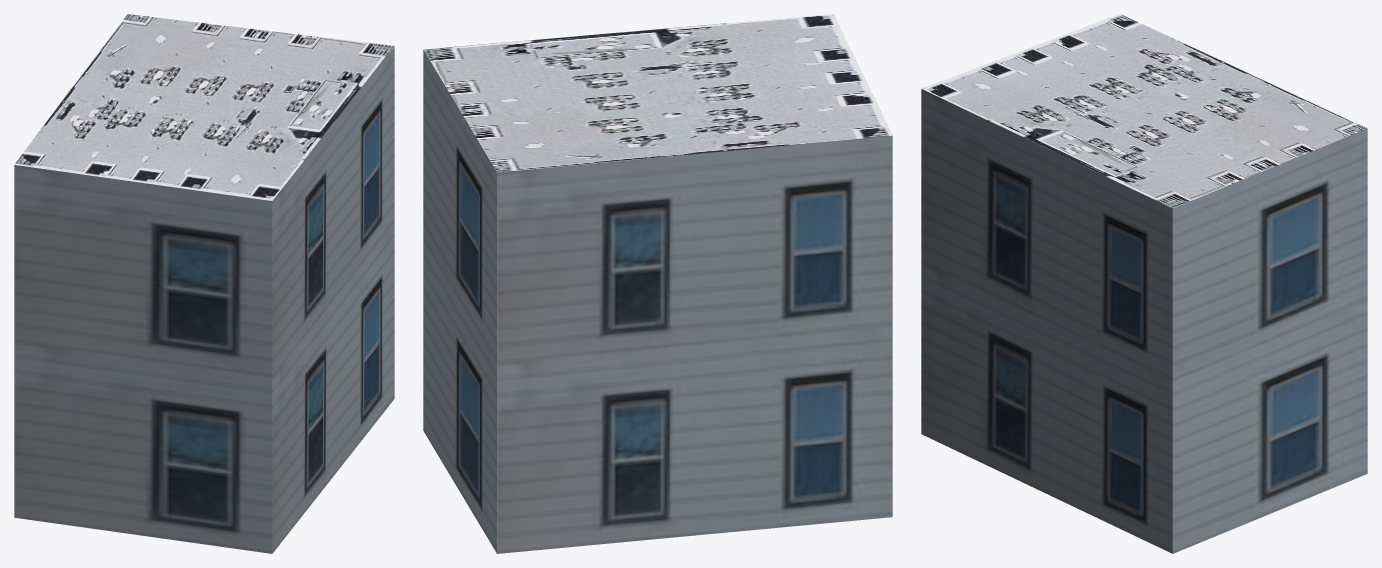
The model's file is ResTex__88.fbx.
3 renders of one model, left to right at view 1: azimuth 30°, elevation 25°; view 2: azimuth 150°, elevation 25°; view 3: azimuth 270°, elevation 25°, orthographic. The views are drawn at different scales.
Visible parts, largest first — view 1: CityEngineMaterial_18_m, CityEngineMaterial_m; view 2: CityEngineMaterial_18_m, CityEngineMaterial_m; view 3: CityEngineMaterial_18_m, CityEngineMaterial_m.
Part boxes in pixels (<box>): CityEngineMaterial_18_m: <box>14,46,394,553</box>; CityEngineMaterial_m: <box>14,14,394,200</box>; CityEngineMaterial_18_m: <box>423,50,892,553</box>; CityEngineMaterial_m: <box>423,14,892,172</box>; CityEngineMaterial_18_m: <box>921,89,1367,553</box>; CityEngineMaterial_m: <box>921,14,1367,208</box>.
Bounding box in the file's own units: 7.25 × 6 × 7.03.
Materials: 2 (2 with a texture image).
